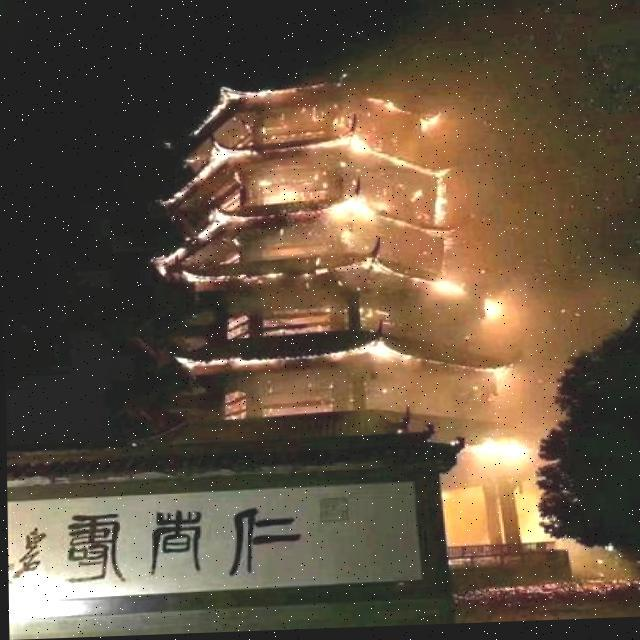Fire: (168, 70, 522, 420)
